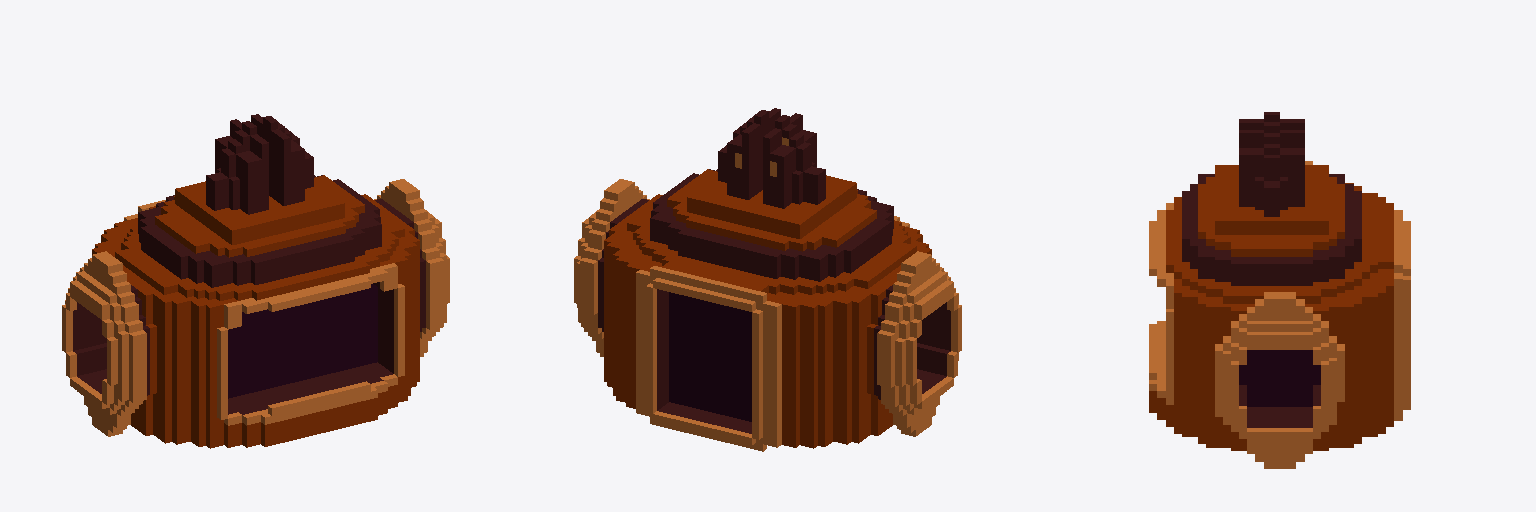
The picture shows the model from 3 angles: view 1: azimuth 30°, elevation 25°; view 2: azimuth 150°, elevation 25°; view 3: azimuth 270°, elevation 25°; orthographic projection.
Parts seen in each view (by area): view 1: object 1; view 2: object 1; view 3: object 1.
Boxes of the visible parts, <box> form: object 1: <box>62,114,449,448</box>; object 1: <box>574,108,961,451</box>; object 1: <box>1149,112,1410,468</box>.
Size of the model in its own units: 4.8 by 3.7 by 3.2.
Materials: 1 (1 with a texture image).